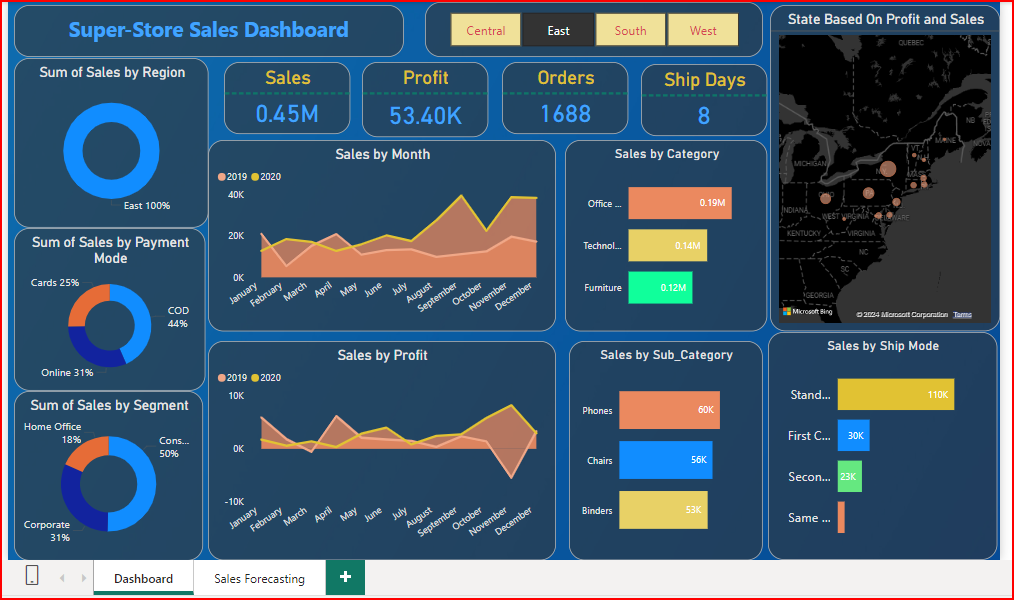

What the dashboard file says about the page in this screenshot:
{"tool":"powerbi","page":{"name":"Dashboard","canvas":[1280,720],"ordinal":0},"visuals":[{"type":"clusteredBarChart","title":"Sales by Category","fields":{"Category":["SuperStore_Sales_Dataset.Category"],"Y":["Sum(SuperStore_Sales_Dataset.Sales)"]},"box":[718.6,178.6,261.4,247.1],"z":0},{"type":"clusteredBarChart","title":"Sales by Sub_Category","fields":{"Category":["SuperStore_Sales_Dataset.Sub-Category"],"Y":["Sum(SuperStore_Sales_Dataset.Sales)"]},"box":[724.3,437.1,250,282.9],"z":1000},{"type":"clusteredBarChart","title":"Sales by Ship Mode","fields":{"Category":["SuperStore_Sales_Dataset.Ship Mode"],"Y":["Sum(SuperStore_Sales_Dataset.Sales)"]},"box":[980,425.7,295.7,294.3],"z":2000},{"type":"areaChart","title":"Sales by Month","fields":{"Y":["Sum(SuperStore_Sales_Dataset.Sales)"],"Category":["SuperStore_Sales_Dataset.Order Date.Variation.Date Hierarchy.Month"],"Series":["SuperStore_Sales_Dataset.Order Date.Variation.Date Hierarchy.Year"]},"box":[258.6,178.6,448.6,247.1],"z":3000},{"type":"donutChart","fields":{"Category":["SuperStore_Sales_Dataset.Segment"],"Y":["Sum(SuperStore_Sales_Dataset.Sales)"]},"box":[7.1,501.4,244.3,218.6],"z":4000},{"type":"donutChart","fields":{"Category":["SuperStore_Sales_Dataset.Region"],"Y":["Sum(SuperStore_Sales_Dataset.Sales)"]},"box":[7.1,72.9,251.4,218.6],"z":5000},{"type":"donutChart","fields":{"Category":["SuperStore_Sales_Dataset.Payment Mode","SuperStore_Sales_Dataset.Region"],"Y":["Sum(SuperStore_Sales_Dataset.Sales)"]},"box":[7.1,291.4,247.1,210],"z":6000},{"type":"areaChart","title":"Sales by Profit","fields":{"Category":["SuperStore_Sales_Dataset.Order Date.Variation.Date Hierarchy.Month"],"Series":["SuperStore_Sales_Dataset.Order Date.Variation.Date Hierarchy.Year"],"Y":["Sum(SuperStore_Sales_Dataset.Profit)"]},"box":[258.6,437.1,448.6,282.9],"z":7000},{"type":"slicer","fields":{"Values":["SuperStore_Sales_Dataset.Region"]},"box":[538.6,0,435.7,71.4],"z":8000},{"type":"card","title":"Sales","fields":{"Values":["Sum(SuperStore_Sales_Dataset.Sales)"]},"box":[278.6,77.1,162.9,92.9],"z":9000},{"type":"card","title":"Profit","fields":{"Values":["Sum(SuperStore_Sales_Dataset.Profit)"]},"box":[457.1,77.1,162.9,97.1],"z":10000},{"type":"card","title":"Orders","fields":{"Values":["CountNonNull(SuperStore_Sales_Dataset.Order ID)"]},"box":[637.1,77.1,162.9,92.9],"z":11000},{"type":"card","title":"Ship Days","fields":{"Values":["Avg(SuperStore_Sales_Dataset.Waiting Days)"]},"box":[817.1,80,162.9,92.9],"z":12000},{"type":"textbox","box":[7.1,4.3,502.9,67.1],"z":13000},{"type":"map","title":"State Based On Profit and Sales","fields":{"Category":["SuperStore_Sales_Dataset.State"],"Size":["Sum(SuperStore_Sales_Dataset.Sales)"]},"box":[982.9,4.3,297.1,421.4],"z":14000}]}

Visuals, with their boxes on the page's 1280x720 design canvas (x1, y1, x2, y2). These are canvas units, not pixel positions in the 1014x600 screenshot, which may show the page scaled, cropped or inside an application window:
"Sales by Category" clusteredBarChart: x1=719, y1=179, x2=980, y2=426
"Sales by Sub_Category" clusteredBarChart: x1=724, y1=437, x2=974, y2=720
"Sales by Ship Mode" clusteredBarChart: x1=980, y1=426, x2=1276, y2=720
"Sales by Month" areaChart: x1=259, y1=179, x2=707, y2=426
donutChart - SuperStore_Sales_Dataset.Segment x Sum(SuperStore_Sales_Dataset.Sales): x1=7, y1=501, x2=251, y2=720
donutChart - SuperStore_Sales_Dataset.Region x Sum(SuperStore_Sales_Dataset.Sales): x1=7, y1=73, x2=258, y2=292
donutChart - SuperStore_Sales_Dataset.Payment Mode x SuperStore_Sales_Dataset.Region: x1=7, y1=291, x2=254, y2=501
"Sales by Profit" areaChart: x1=259, y1=437, x2=707, y2=720
slicer - SuperStore_Sales_Dataset.Region: x1=539, y1=0, x2=974, y2=71
"Sales" card: x1=279, y1=77, x2=442, y2=170
"Profit" card: x1=457, y1=77, x2=620, y2=174
"Orders" card: x1=637, y1=77, x2=800, y2=170
"Ship Days" card: x1=817, y1=80, x2=980, y2=173
textbox: x1=7, y1=4, x2=510, y2=71
"State Based On Profit and Sales" map: x1=983, y1=4, x2=1280, y2=426
